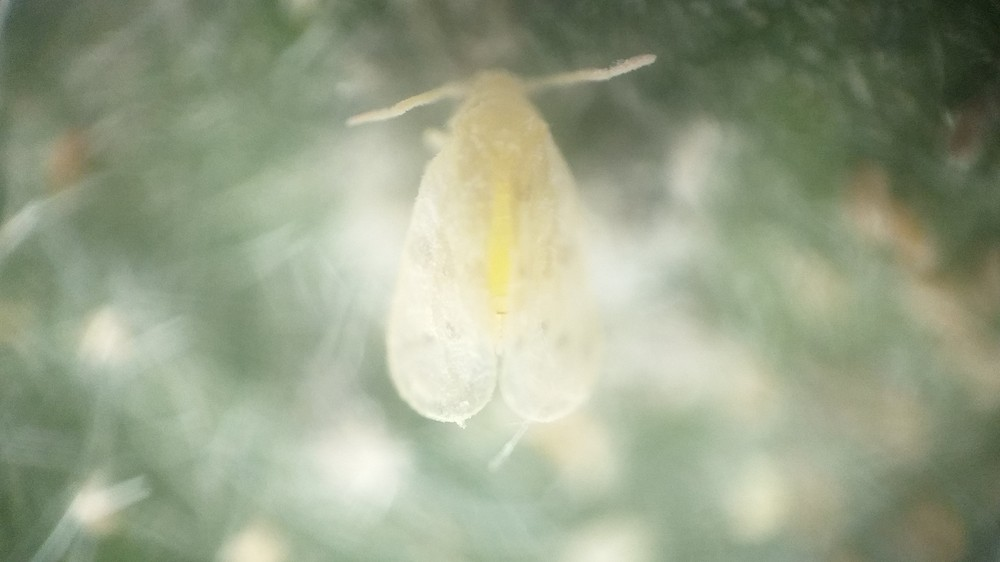Mosca Blanca: (326, 35, 699, 465)
